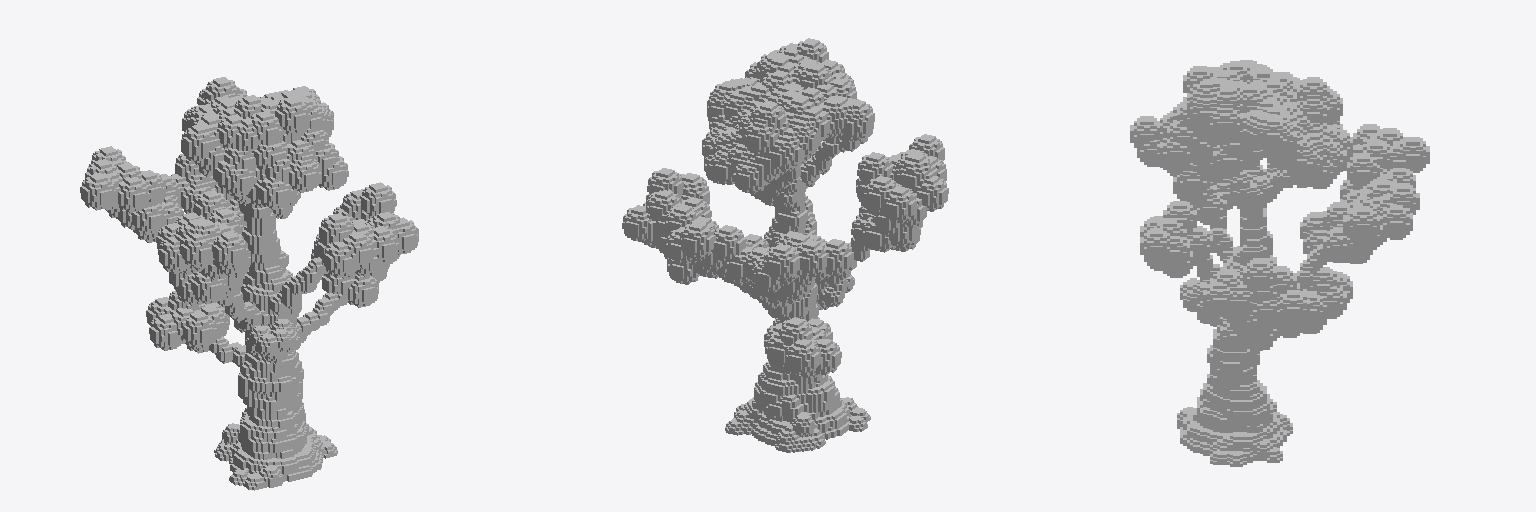
The model's file is tree base.obj.
The picture shows the model from 3 angles: view 1: azimuth 30°, elevation 25°; view 2: azimuth 150°, elevation 25°; view 3: azimuth 270°, elevation 25°; orthographic projection.
Visible parts, largest first — view 1: object 1; view 2: object 1; view 3: object 1.
Boxes of the visible parts, x1=… form: object 1: x1=80, y1=77, x2=418, y2=490; object 1: x1=622, y1=38, x2=948, y2=452; object 1: x1=1130, y1=60, x2=1429, y2=466.
Size of the model in its own units: 9.4 by 12.3 by 9.